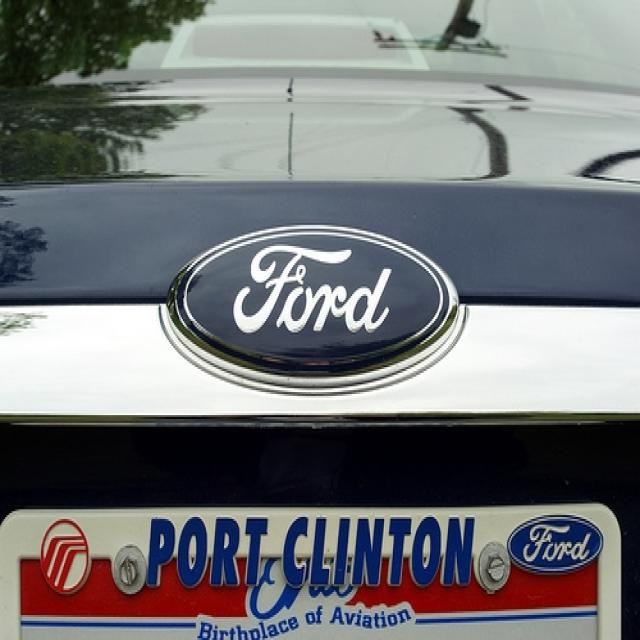ford: (183, 230, 446, 368)
